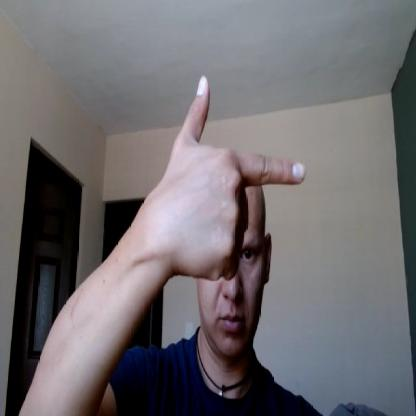G: (170, 74, 308, 279)
